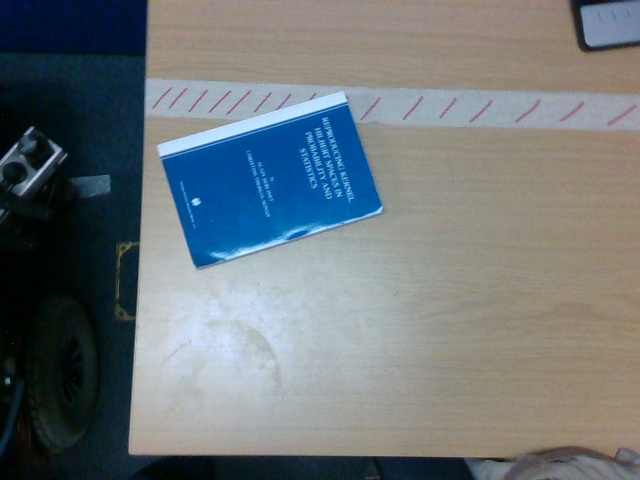book: (158, 92, 386, 268)
